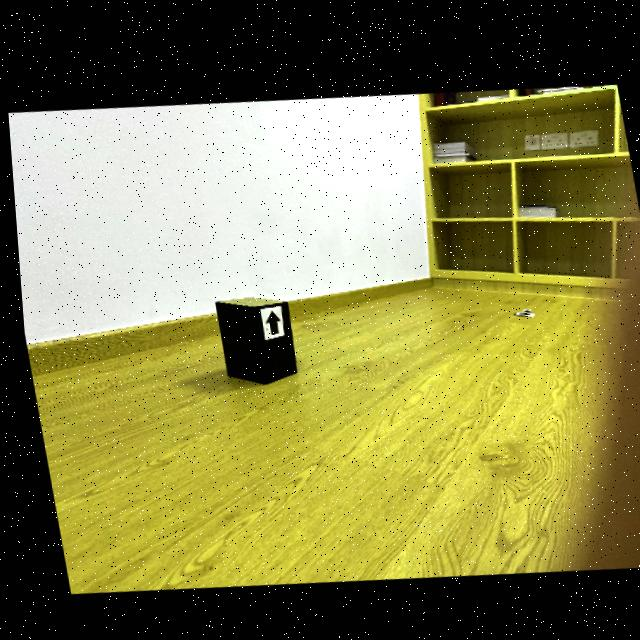UP: (260, 307, 276, 331)
